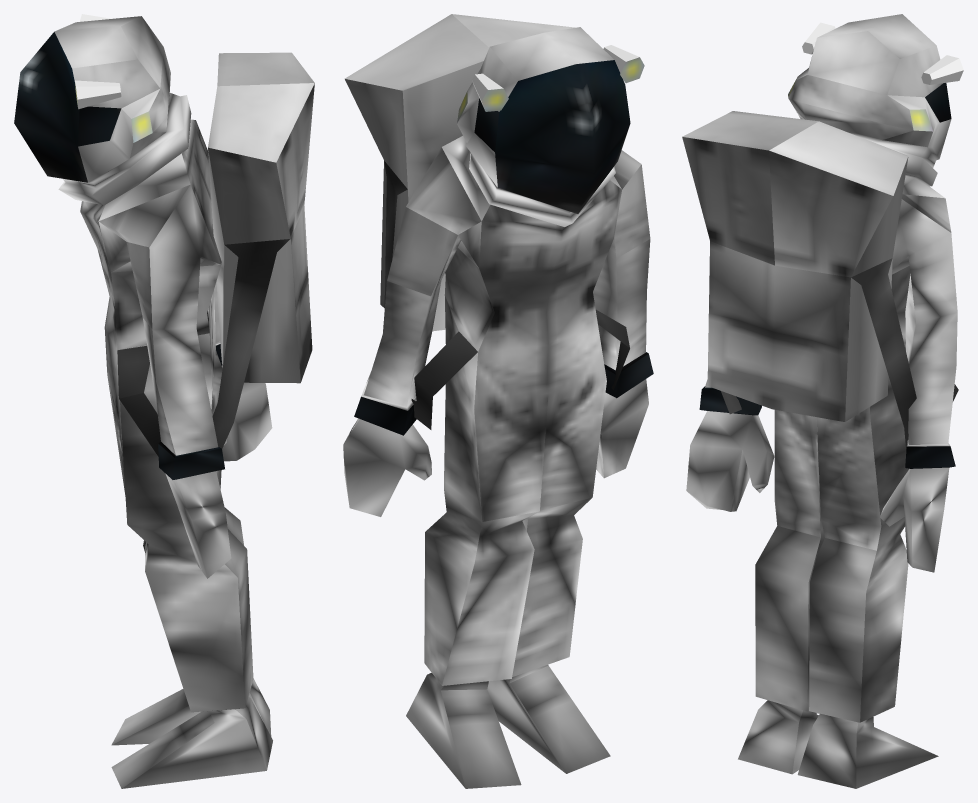
Rendered from Astronaut suit.fbx.
The picture shows the model from 3 angles, left to right: view 1: azimuth 30°, elevation 25°; view 2: azimuth 150°, elevation 25°; view 3: azimuth 270°, elevation 25°; orthographic projection. The views are drawn at different scales.
Parts seen in each view (by area): view 1: SpaceMan_Sketchfab.007; view 2: SpaceMan_Sketchfab.007; view 3: SpaceMan_Sketchfab.007.
Boxes of the visible parts, x1=… form: SpaceMan_Sketchfab.007: x1=14, y1=14, x2=314, y2=788; SpaceMan_Sketchfab.007: x1=343, y1=14, x2=653, y2=788; SpaceMan_Sketchfab.007: x1=682, y1=14, x2=963, y2=788.
Size of the model in its own units: 4.35 by 11.61 by 4.18.
